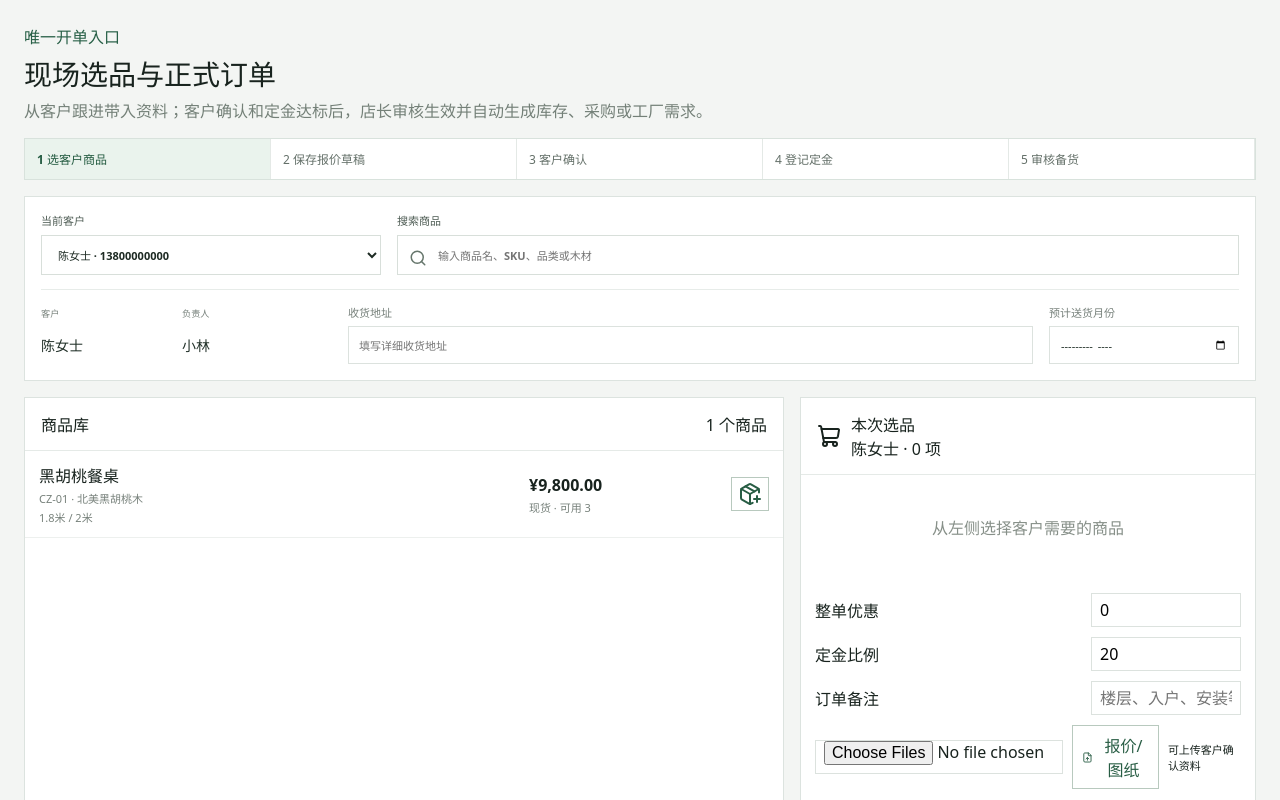
Test: OrderWorkspacePage › requires a discount reason before saving a discounted order
This screenshot has width=1280, height=800.
Click the button titled "加入选品" at (750, 494), box [731,477,769,511]
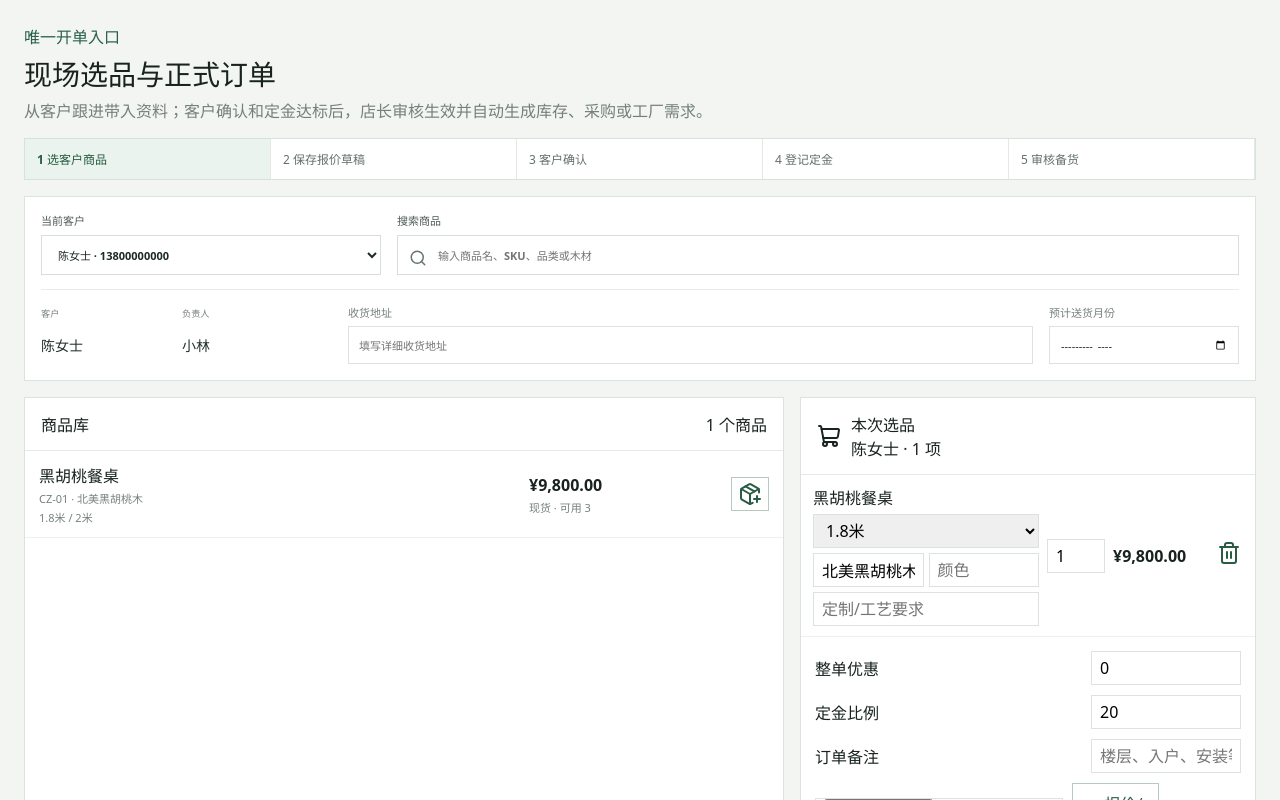
Replace the text in the number field labelled "整单优惠" with "800" at (1166, 668), box [1091,651,1241,685]
(page scrolled)
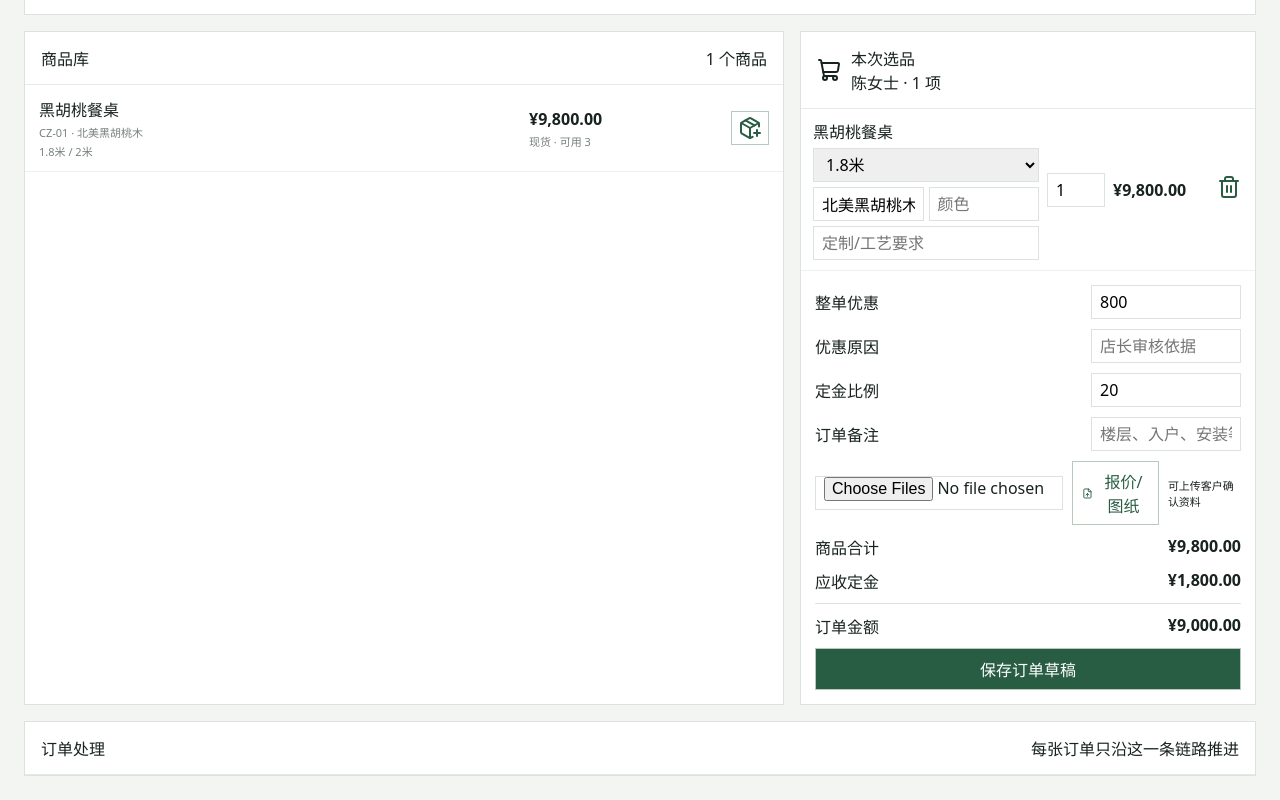
Click the button "保存订单草稿" at (1028, 669), box [815,648,1241,690]
(page scrolled)
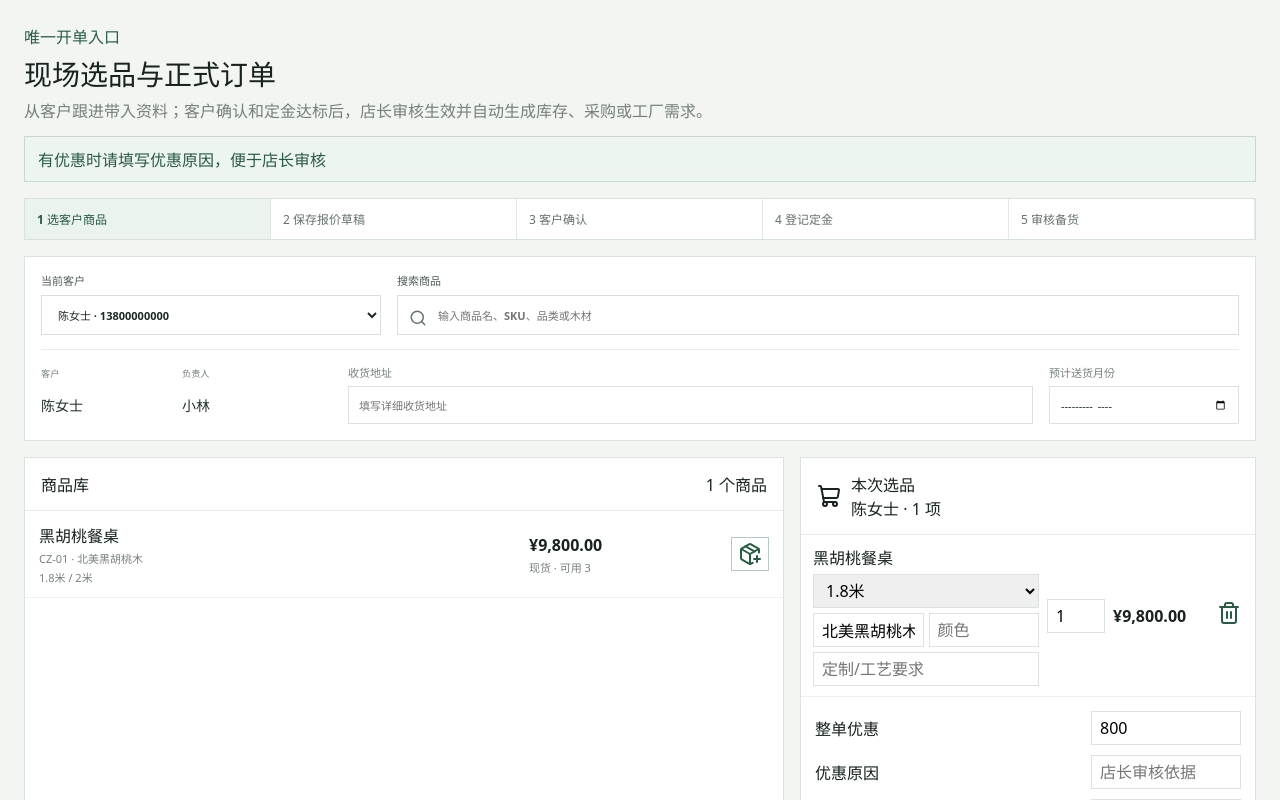
Result: the message shows "优惠原因" at [38,149,326,171]
